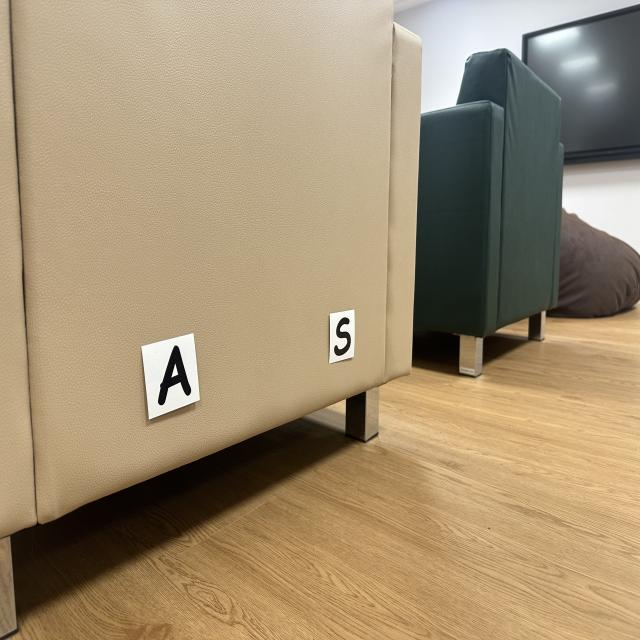A: (158, 345, 191, 405)
S: (334, 317, 351, 357)
